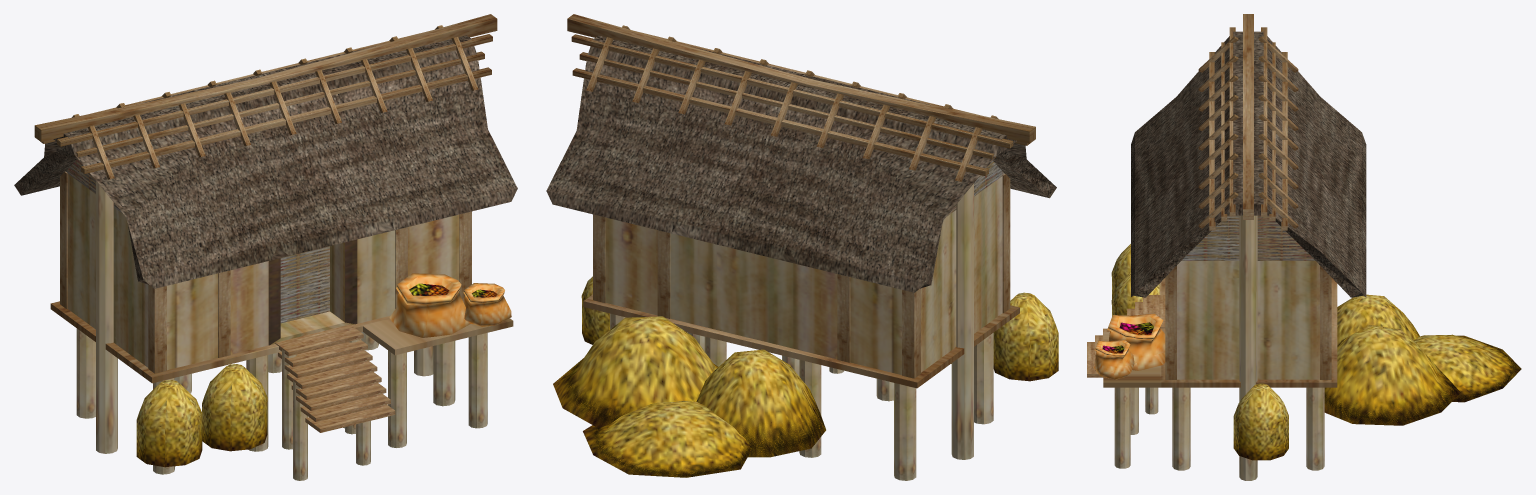
The model's file is yayoi_farm.dae.
The picture shows the model from 3 angles, left to right: view 1: azimuth 30°, elevation 25°; view 2: azimuth 150°, elevation 25°; view 3: azimuth 270°, elevation 25°; orthographic projection. The views are drawn at different scales.
Visible parts, largest first — view 1: FARM; view 2: FARM; view 3: FARM.
Part boxes in pixels (x1=…): FARM: x1=14, y1=14, x2=517, y2=480; FARM: x1=546, y1=14, x2=1058, y2=480; FARM: x1=1087, y1=14, x2=1521, y2=480.
Size of the model in its own units: 16.16 by 15.2 by 11.85.
Materials: 1 (1 with a texture image).
